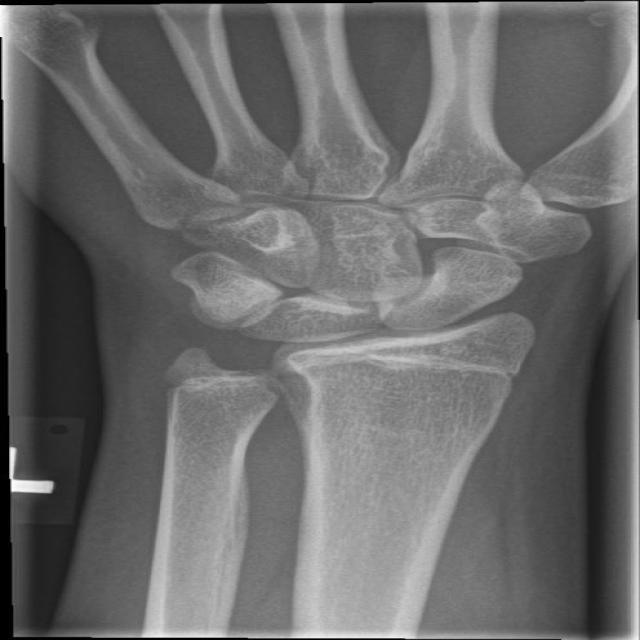fracture: (274, 334, 546, 394), (160, 357, 299, 408)
